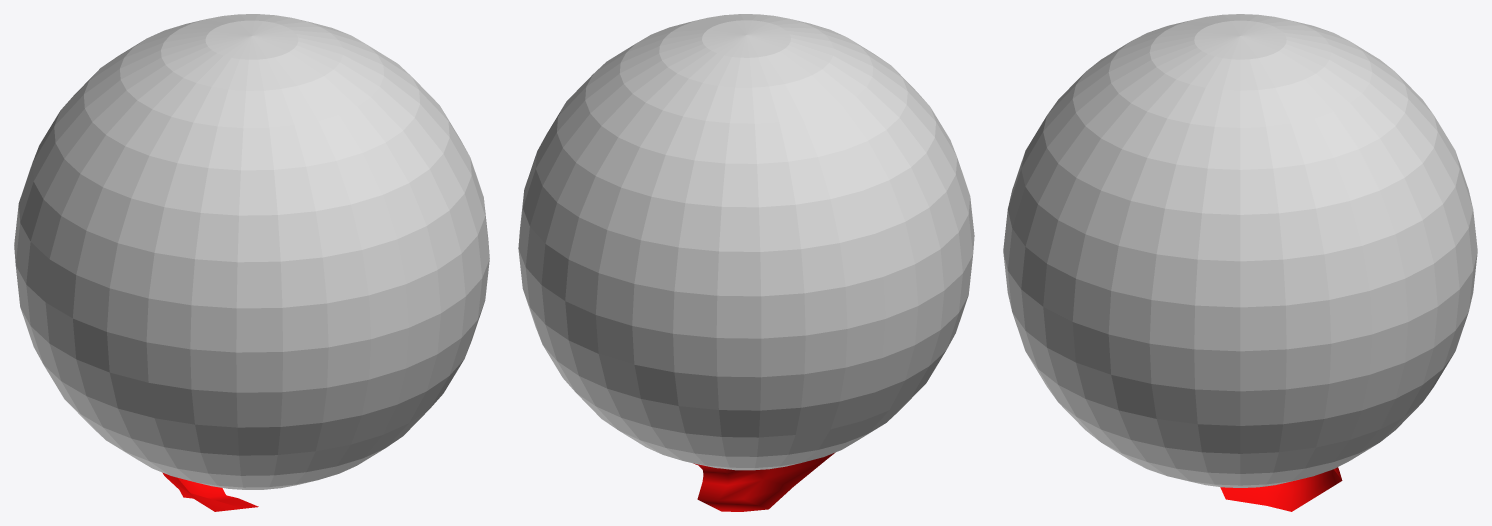
File: mascara.glb
3 views of the same model, side by side, from view 1: azimuth 30°, elevation 25°; view 2: azimuth 150°, elevation 25°; view 3: azimuth 270°, elevation 25° (orthographic). The views are drawn at different scales.
Parts seen in each view (by area): view 1: Sphere.024, Sphere, Sphere.022, Sphere.002, Sphere.001, Sphere.010, Sphere.005, Sphere.004, Sphere.011, Sphere.006, Sphere.023, Sphere.007 (+4 smaller); view 2: Sphere, Sphere.023, Sphere.022, Sphere.018, Sphere.004, Sphere.024, Sphere.017, Cube, Sphere.005, Sphere.019, Sphere.021; view 3: Sphere.018, Sphere.003, Sphere.022, Sphere.004, Sphere.001, Sphere.017, Sphere, Sphere.010, Sphere.023, Sphere.019, Sphere.005, Sphere.002 (+7 smaller).
Boxes of the visible parts, x1,y1,x2,y2 form: Sphere.024: [61, 72, 328, 455]; Sphere: [32, 16, 315, 489]; Sphere.022: [26, 199, 217, 485]; Sphere.002: [44, 183, 440, 412]; Sphere.001: [363, 118, 489, 312]; Sphere.010: [306, 278, 482, 471]; Sphere.005: [294, 87, 414, 211]; Sphere.004: [252, 15, 449, 153]; Sphere.011: [369, 297, 465, 379]; Sphere.006: [281, 69, 370, 125]; Sphere.023: [14, 164, 489, 363]; Sphere.007: [252, 36, 333, 85]; Sphere: [595, 23, 929, 470]; Sphere.023: [598, 222, 918, 426]; Sphere.022: [725, 158, 974, 467]; Sphere.018: [518, 73, 662, 314]; Sphere.004: [619, 14, 800, 437]; Sphere.024: [822, 34, 957, 207]; Sphere.017: [518, 208, 660, 453]; Cube: [693, 452, 835, 511]; Sphere.005: [641, 399, 795, 456]; Sphere.019: [620, 35, 745, 110]; Sphere.021: [585, 43, 635, 99]; Sphere.018: [1085, 83, 1473, 484]; Sphere.003: [1108, 158, 1283, 425]; Sphere.022: [1156, 254, 1369, 453]; Sphere.004: [1101, 36, 1313, 200]; Sphere.001: [1021, 113, 1130, 334]; Sphere.017: [1291, 264, 1472, 481]; Sphere: [1111, 14, 1477, 310]; Sphere.010: [1012, 307, 1146, 461]; Sphere.023: [1072, 153, 1472, 418]; Sphere.019: [1208, 36, 1369, 485]; Sphere.005: [1043, 62, 1146, 148]; Sphere.002: [1003, 116, 1057, 288].
Size of the model in its own units: 2 by 2.21 by 2.
